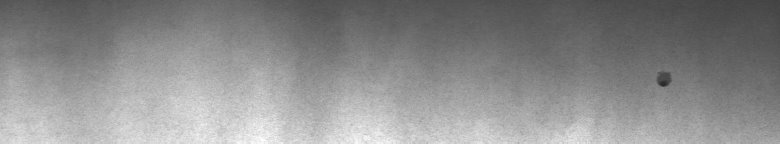fi: (649, 64, 676, 96)
